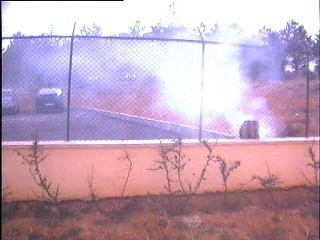smoke: (129, 25, 286, 136)
